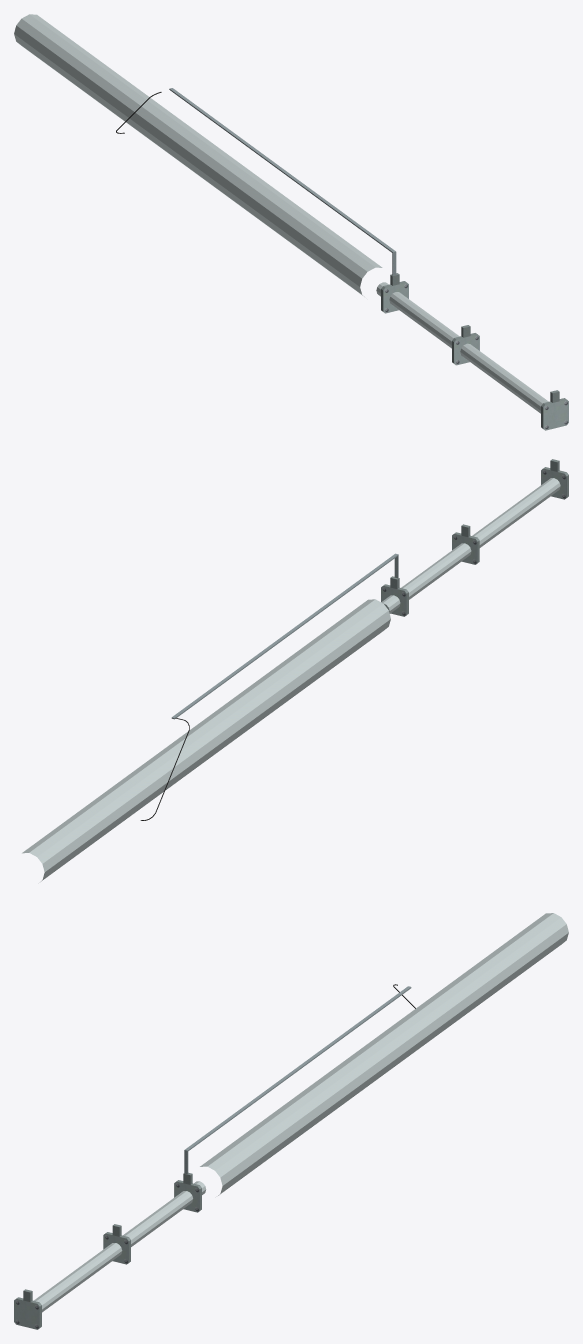
File: blq-11m00000000680579-geode.glb
3 renders of one model, top to bottom at view 1: azimuth 30°, elevation 25°; view 2: azimuth 150°, elevation 25°; view 3: azimuth 330°, elevation 25°, orthographic.
Visible parts, largest first — view 1: Node; view 2: Node; view 3: Node.
Part boxes in pixels (x1=…): Node: x1=14, y1=14, x2=568, y2=430; Node: x1=22, y1=459, x2=568, y2=881; Node: x1=14, y1=913, x2=568, y2=1329.
Bounding box in the file's own units: 0.342 × 0.6727 × 8.88.
Materials: 5 (5 with a texture image).
